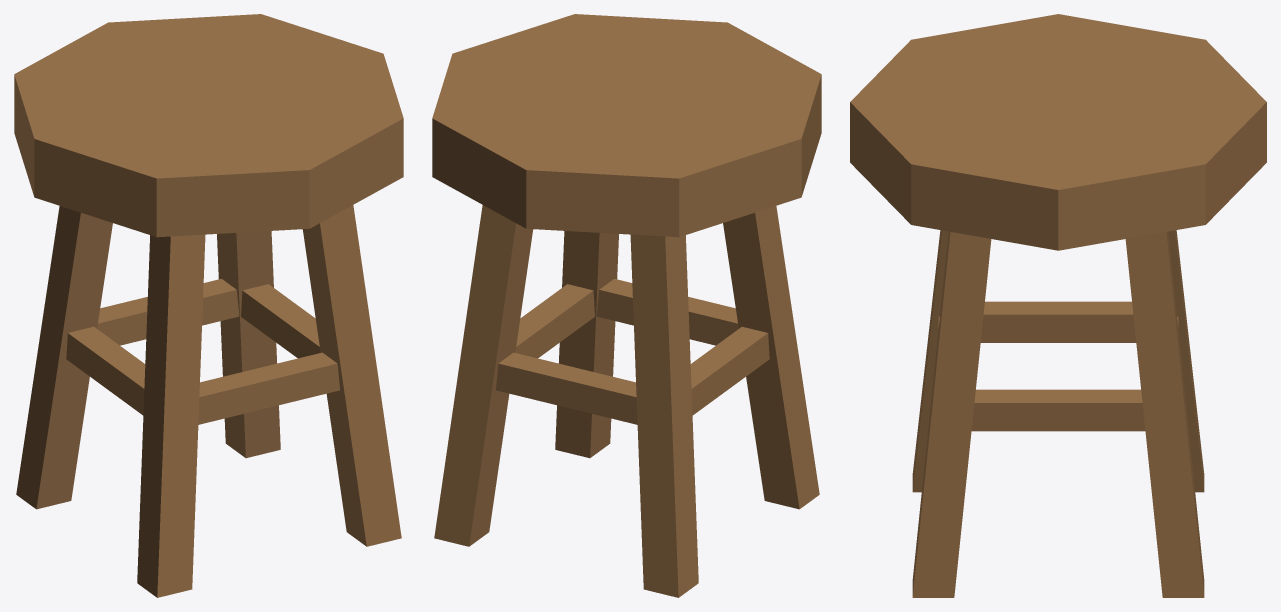
File: Stool1.fbx
The picture shows the model from 3 angles, left to right: view 1: azimuth 30°, elevation 25°; view 2: azimuth 150°, elevation 25°; view 3: azimuth 270°, elevation 25°; orthographic projection. The views are drawn at different scales.
Parts seen in each view (by area): view 1: Cylinder; view 2: Cylinder; view 3: Cylinder.
Boxes of the visible parts, x1,y1,x2,y2 form: Cylinder: [14, 14, 403, 597]; Cylinder: [432, 14, 821, 597]; Cylinder: [850, 14, 1266, 597].
Size of the model in its own units: 0.7 by 0.805 by 0.7.
